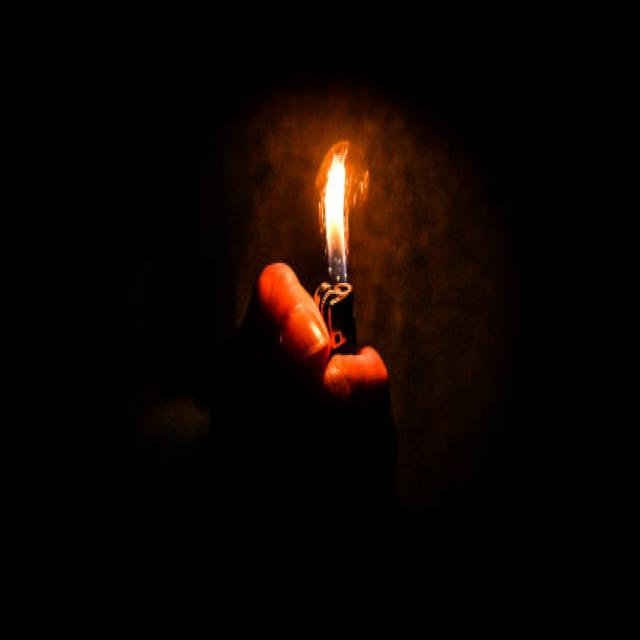fire: (325, 148, 346, 282)
